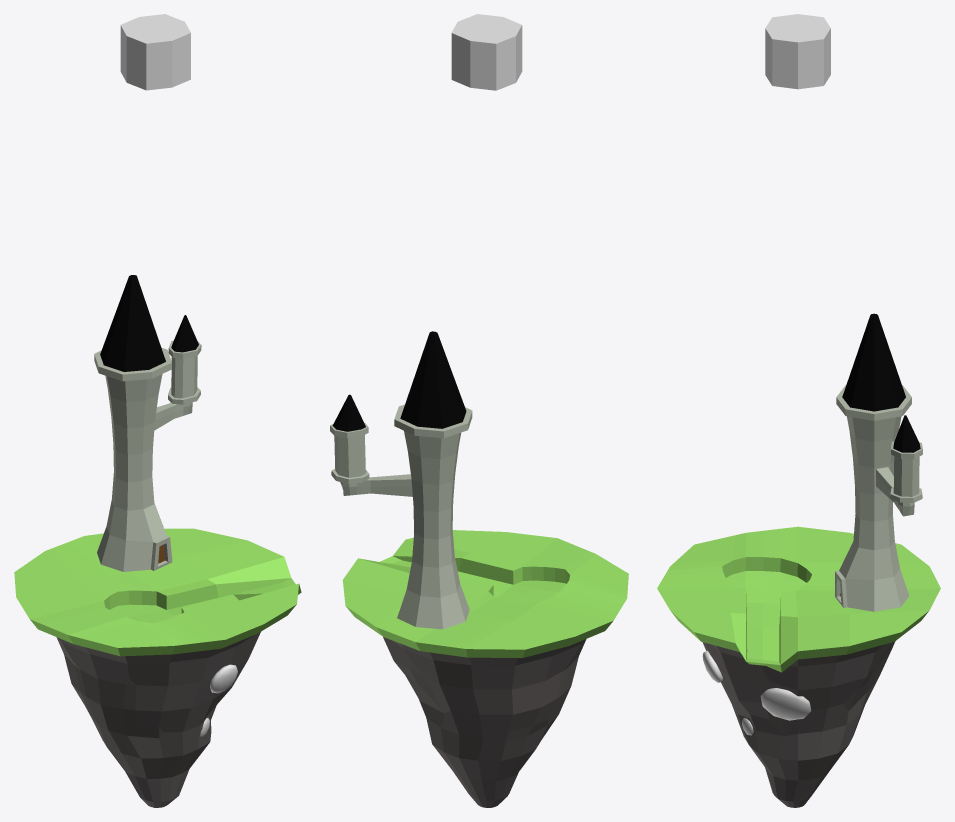
File: AGPwizard tower.fbx
The picture shows the model from 3 angles, left to right: view 1: azimuth 30°, elevation 25°; view 2: azimuth 150°, elevation 25°; view 3: azimuth 270°, elevation 25°; orthographic projection.
Parts seen in each view (by area): view 1: Cube.002, Cube, Cube.001, Icosphere.001; view 2: Cube.002, Cube, Cube.001; view 3: Cube.002, Cube, Cube.001, Icosphere.002.
Boxes of the visible parts, left/top/right/bottom form: Cube.002: left=14, top=528, right=301, bottom=807; Cube: left=94, top=275, right=201, bottom=571; Cube.001: left=120, top=14, right=190, bottom=90; Icosphere.001: left=210, top=664, right=237, bottom=693; Cube.002: left=343, top=530, right=628, bottom=807; Cube: left=330, top=331, right=472, bottom=629; Cube.001: left=451, top=14, right=522, bottom=90; Cube.002: left=657, top=526, right=940, bottom=807; Cube: left=835, top=313, right=922, bottom=611; Cube.001: left=765, top=14, right=830, bottom=89; Icosphere.002: left=760, top=688, right=811, bottom=720.
Bounding box in the file's own units: 7335 × 21268 × 7062.
